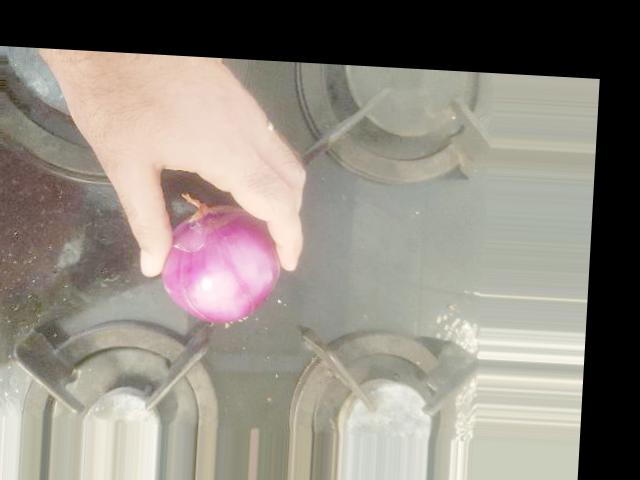onion: (154, 204, 283, 324)
